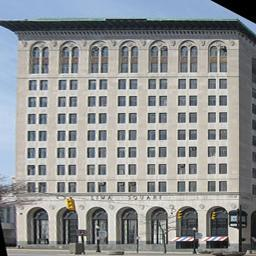building: (11, 5, 240, 246)
